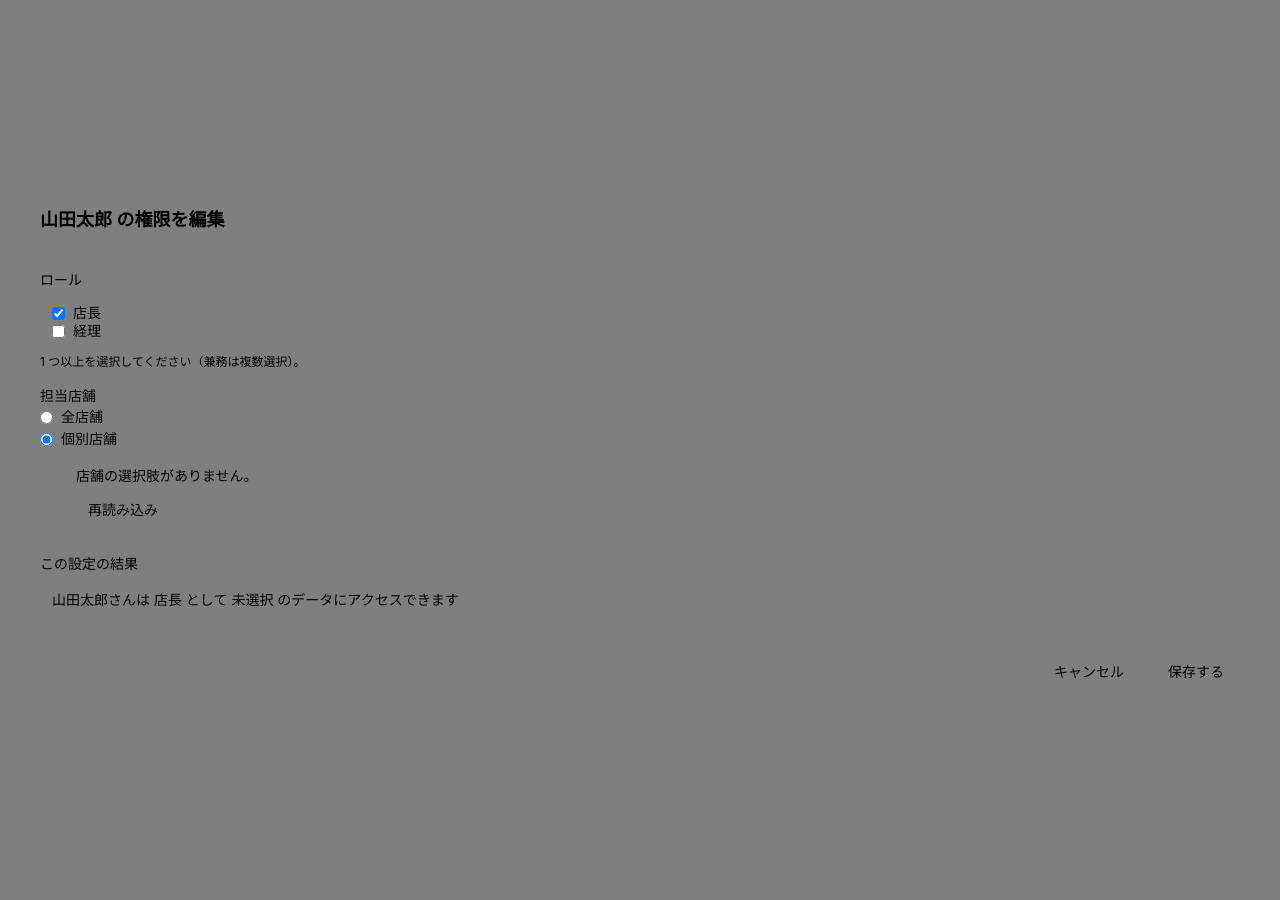
Test: 共通授権編集モーダル › 応答の店舗範囲が欠落しても全店舗へ拡大しない
This screenshot has width=1280, height=900.
Check: the radio button labelled "個別店舗" is checked, box x1=40 y1=432 x2=53 y2=446
Click the button "保存する".
click(1196, 672)  # box x1=1152 y1=654 x2=1240 y2=690
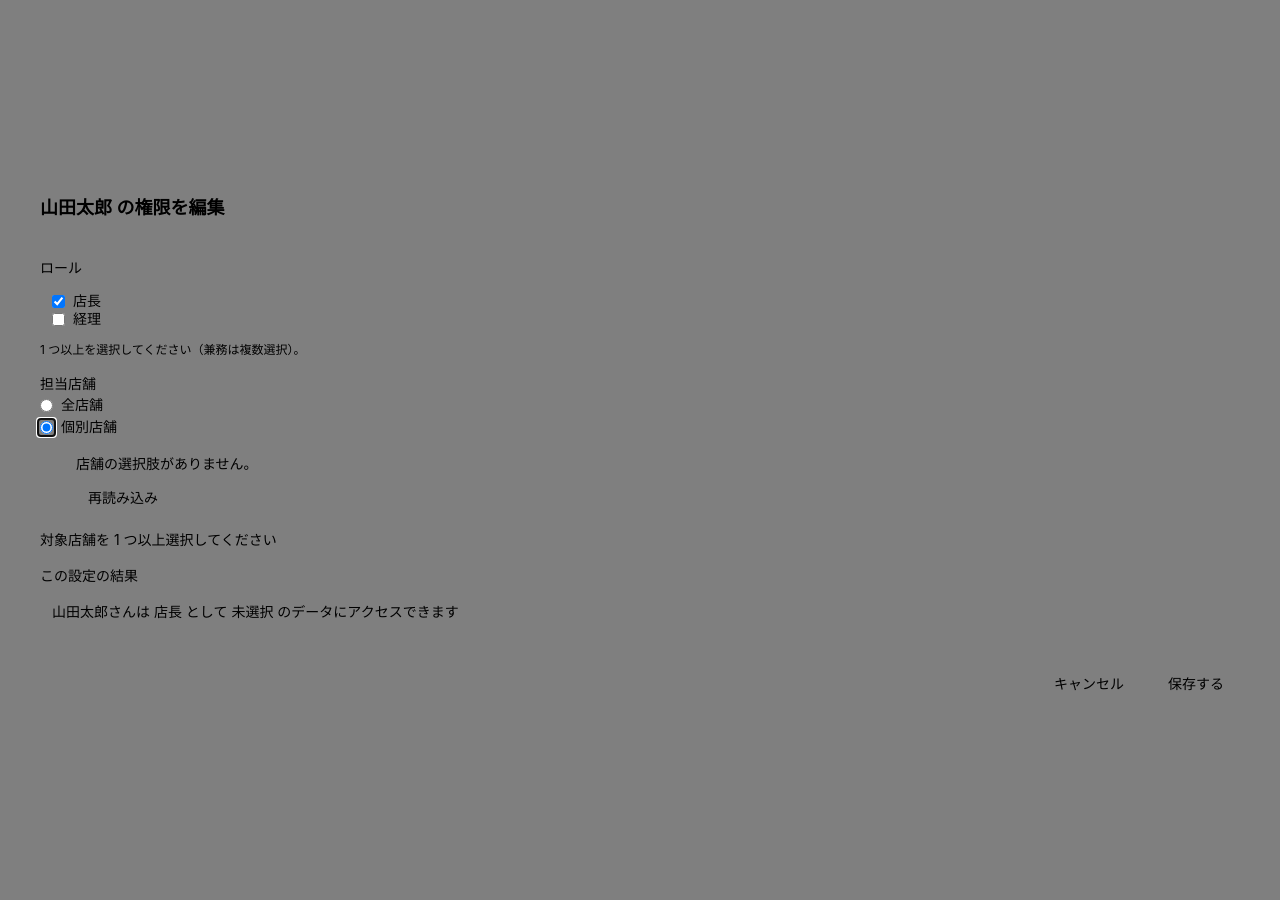
Check: the text "対象店舗を 1 つ以上選択してください" is shown, box x1=40 y1=531 x2=277 y2=548
